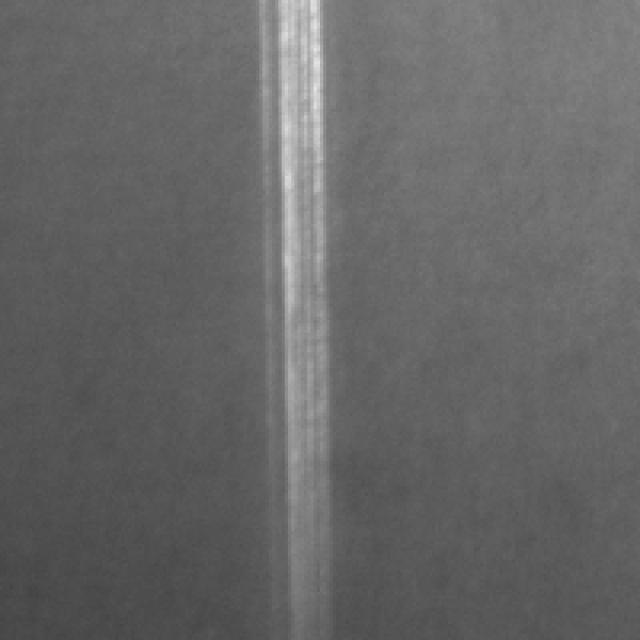scratches: (274, 0, 328, 640)
